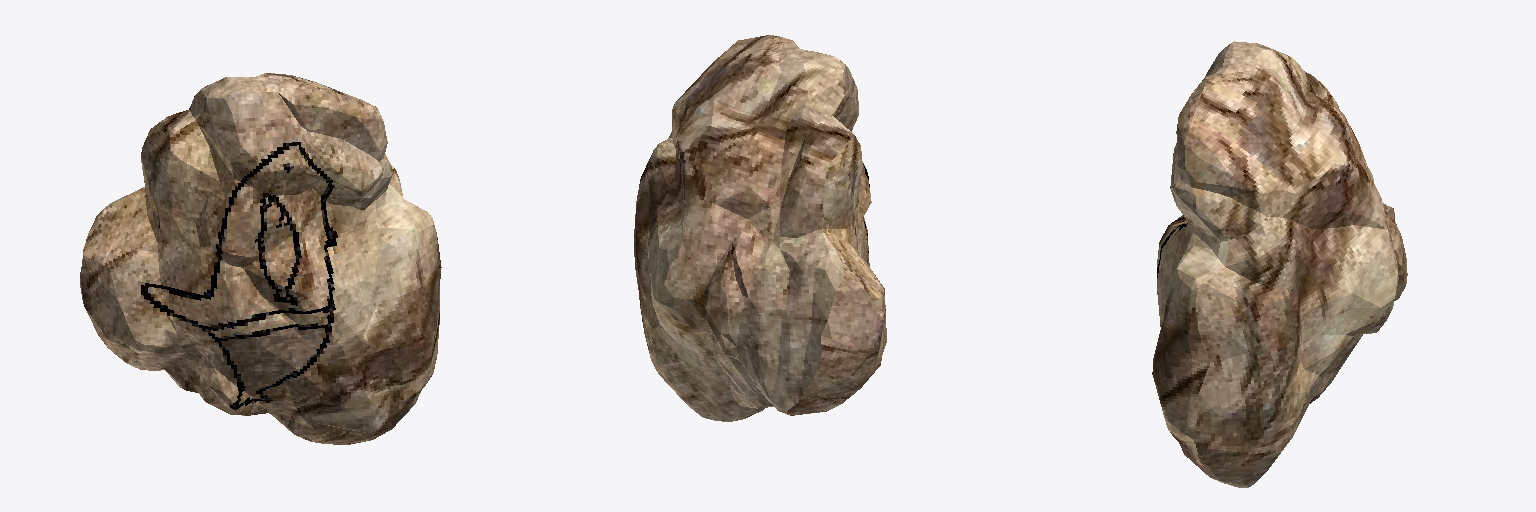
3 renders of one model, left to right at view 1: azimuth 30°, elevation 25°; view 2: azimuth 150°, elevation 25°; view 3: azimuth 270°, elevation 25°, orthographic.
Visible parts, largest first — view 1: Rock; view 2: Rock; view 3: Rock.
Boxes of the visible parts, x1=… form: Rock: x1=80, y1=73, x2=441, y2=444; Rock: x1=634, y1=35, x2=886, y2=421; Rock: x1=1152, y1=41, x2=1407, y2=487.
Bounding box in the file's own units: 123 × 156 × 93.5.
Materials: 1 (1 with a texture image).